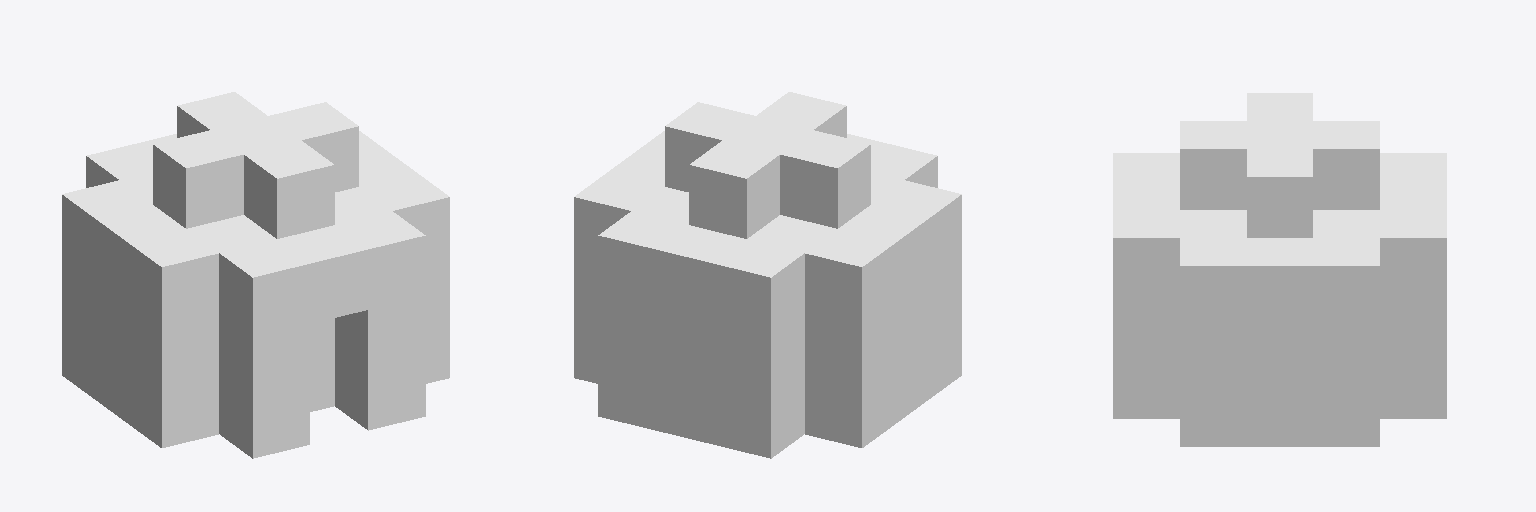
The model's file is overworld-6-props_hut.obj.
3 views of the same model, side by side, from view 1: azimuth 30°, elevation 25°; view 2: azimuth 150°, elevation 25°; view 3: azimuth 270°, elevation 25° (orthographic).
Visible parts, largest first — view 1: props_hut; view 2: props_hut; view 3: props_hut.
Part boxes in pixels (x1,y1,x2,y2): props_hut: (62, 92, 449, 458); props_hut: (574, 92, 961, 458); props_hut: (1113, 93, 1446, 446).
Bounding box in the file's own units: 0.5 × 0.4 × 0.5.